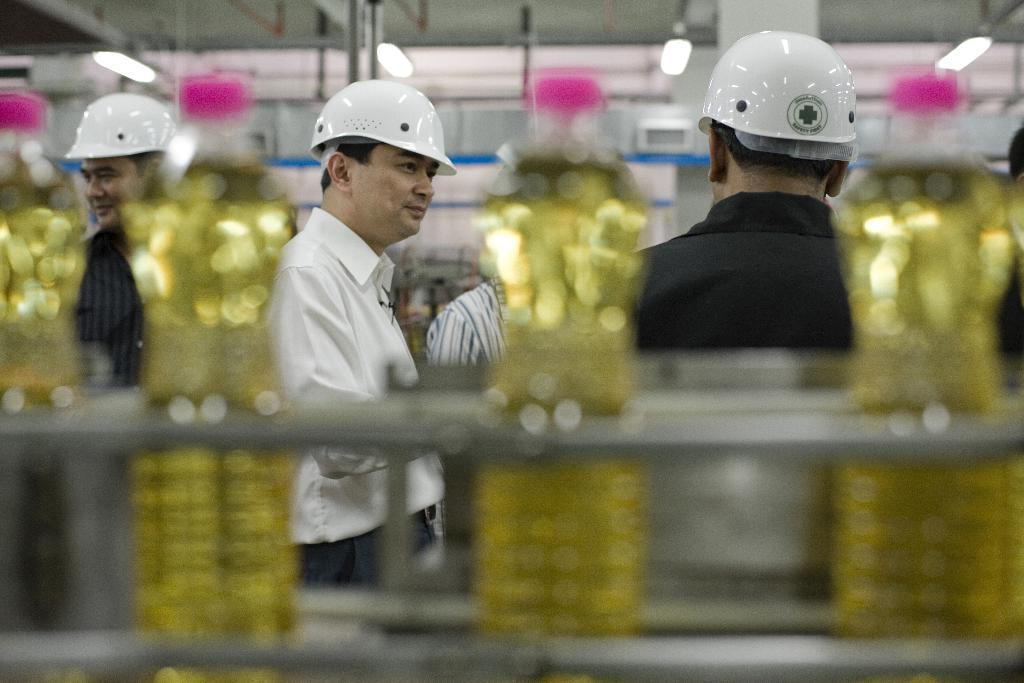helmet: (698, 30, 857, 212), (308, 79, 457, 235), (64, 93, 177, 226)
